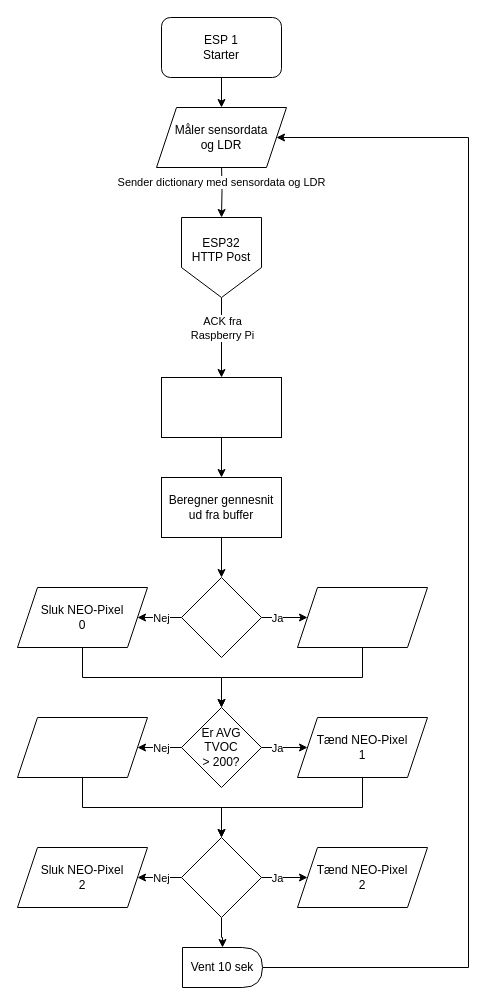
Image size: 494x1005. Some labels were removed from this diagram. The shapes that lost their labels are listed below. From the top down, each one's centre as x and y in pixels, then its label:
the point at 221,407: Sætter eCO2, TVOC AQI i en buffer med 5 målinger
the point at 221,617: Er AVG eCO2 > 1000?
the point at 362,617: Tænd NEO-Pixel 0
the point at 82,747: Sluk NEO-Pixel 1
the point at 221,877: Er Avg AQI > 2
